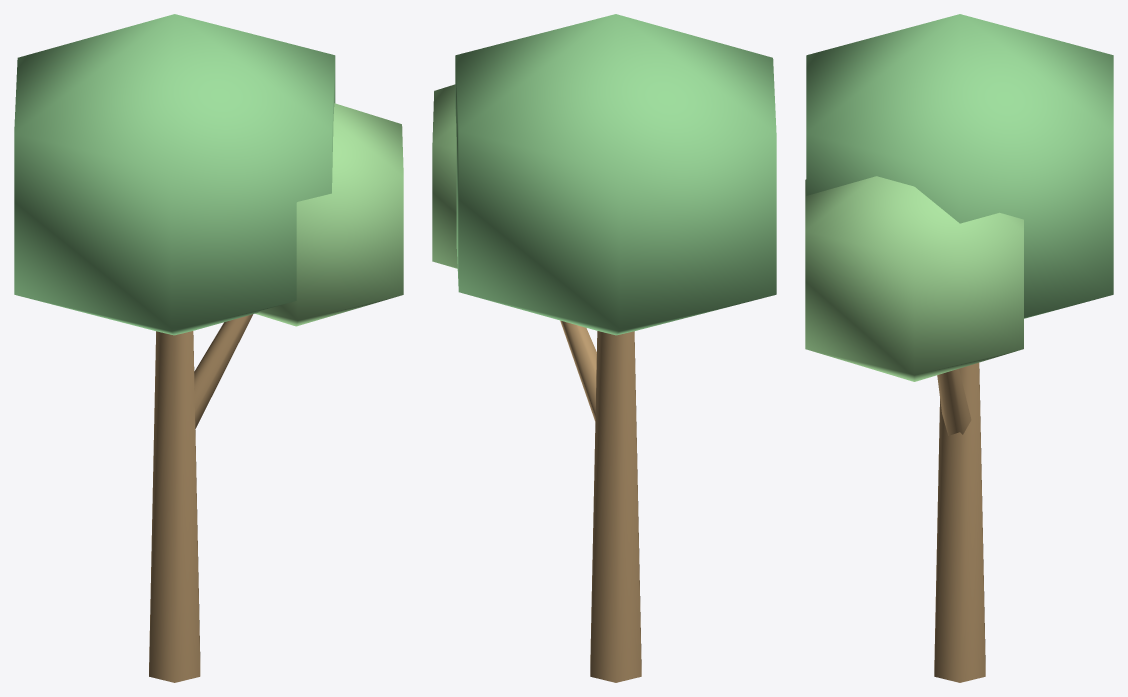
File: tree_sapling_summer_low.glb
The picture shows the model from 3 angles, left to right: view 1: azimuth 30°, elevation 25°; view 2: azimuth 150°, elevation 25°; view 3: azimuth 270°, elevation 25°; orthographic projection.
Bounding box in the file's own units: 0.9255 × 1.59 × 0.6775.
